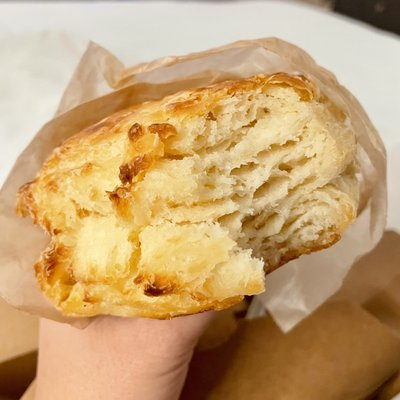curry: (14, 0, 400, 354)
sandwich: (10, 69, 385, 320)
